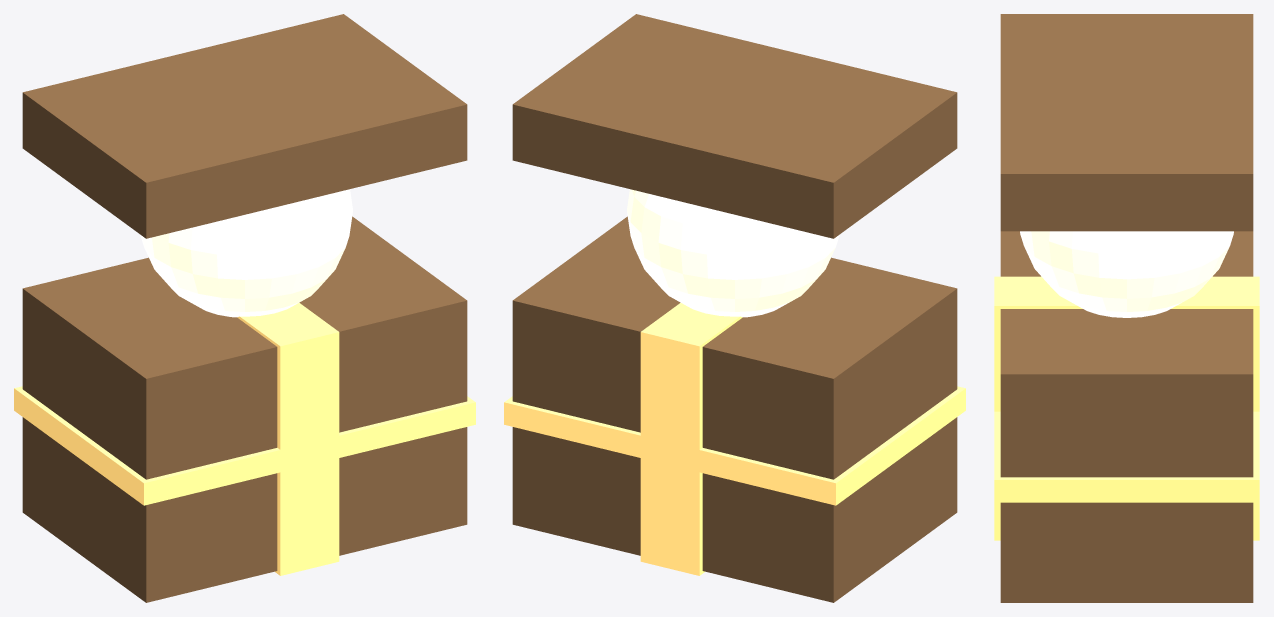
The model's file is chest.glb.
The picture shows the model from 3 angles, left to right: view 1: azimuth 30°, elevation 25°; view 2: azimuth 150°, elevation 25°; view 3: azimuth 270°, elevation 25°; orthographic projection. The views are drawn at different scales.
Parts seen in each view (by area): view 1: Cube, Cube.001, Sphere, Cube.002, Cube.003; view 2: Cube, Cube.001, Sphere, Cube.002, Cube.003; view 3: Cube, Cube.001, Sphere, Cube.003, Cube.002.
Part boxes in pixels (bbox=[...]): Cube: bbox=[22, 216, 467, 602]; Cube.001: bbox=[22, 14, 467, 238]; Sphere: bbox=[140, 189, 352, 317]; Cube.002: bbox=[237, 303, 339, 575]; Cube.003: bbox=[14, 386, 475, 505]; Cube: bbox=[512, 216, 957, 602]; Cube.001: bbox=[512, 14, 957, 238]; Sphere: bbox=[627, 189, 839, 317]; Cube.002: bbox=[640, 303, 742, 575]; Cube.003: bbox=[504, 386, 965, 505]; Cube: bbox=[1000, 231, 1253, 602]; Cube.001: bbox=[1000, 14, 1253, 231]; Sphere: bbox=[1020, 231, 1233, 317]; Cube.003: bbox=[994, 411, 1259, 502]; Cube.002: bbox=[994, 276, 1259, 540].
Size of the model in its own units: 1.24 by 1.51 by 0.84.
